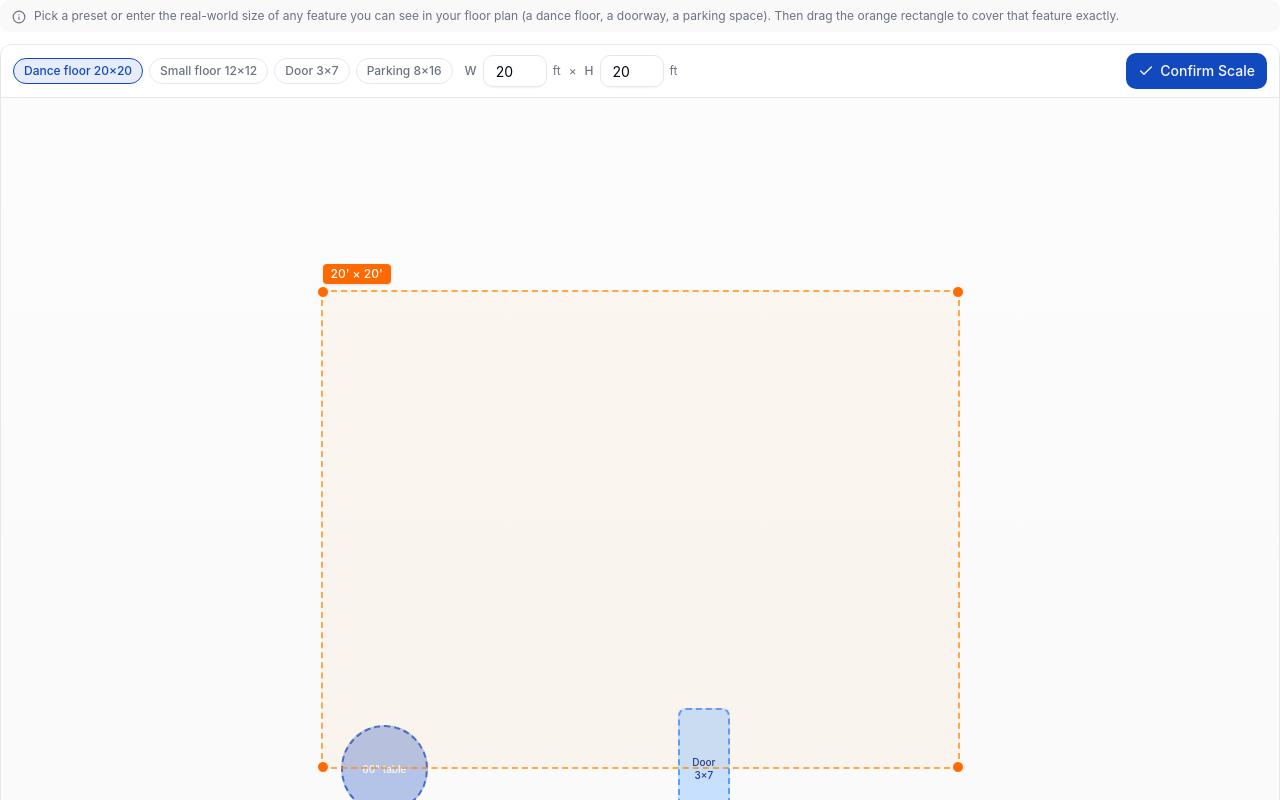
Test: StepSetScale dimension validation › disables the Confirm Scale button when dimensions are out of range
Type "99999" into the number field labelled "W" at (515, 71), box 483,55 -> 547,87
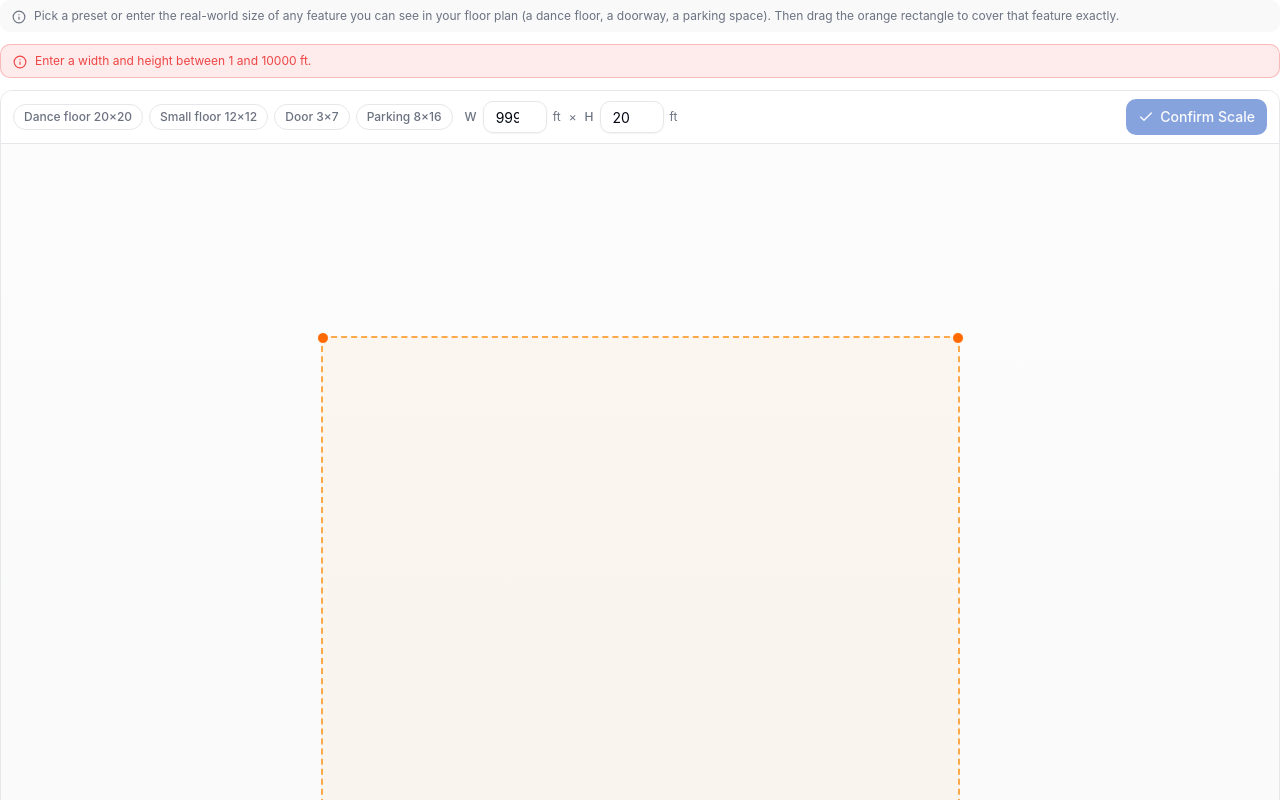
expect the button "Confirm Scale" is disabled: met, box 1126,99 -> 1267,135
expect the text "Enter a width and height between 1 and 10000 ft." is shown: met, box 35,53 -> 311,69
